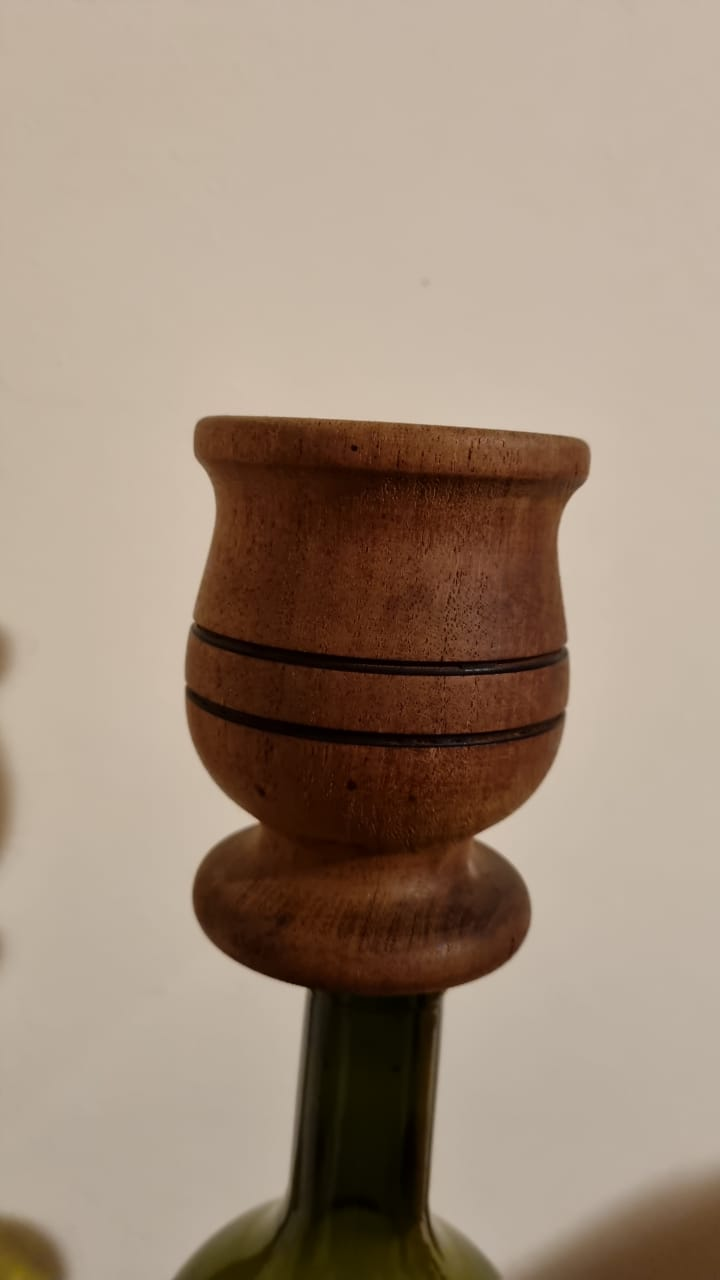madera: (173, 397, 601, 1001)
mate: (175, 399, 603, 1003)
